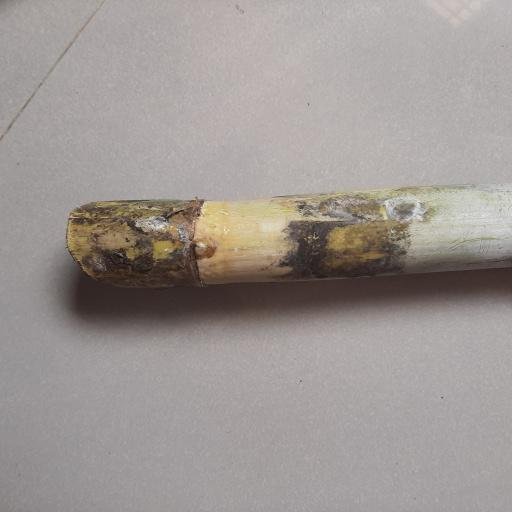Bud: (190, 239, 217, 260)
